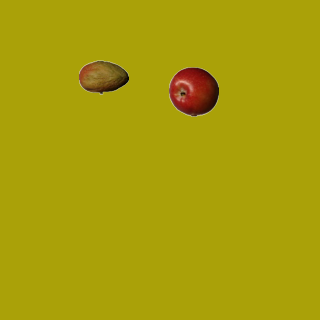Apple Braeburn: (168, 66, 218, 116)
Papaya: (78, 52, 128, 102)
